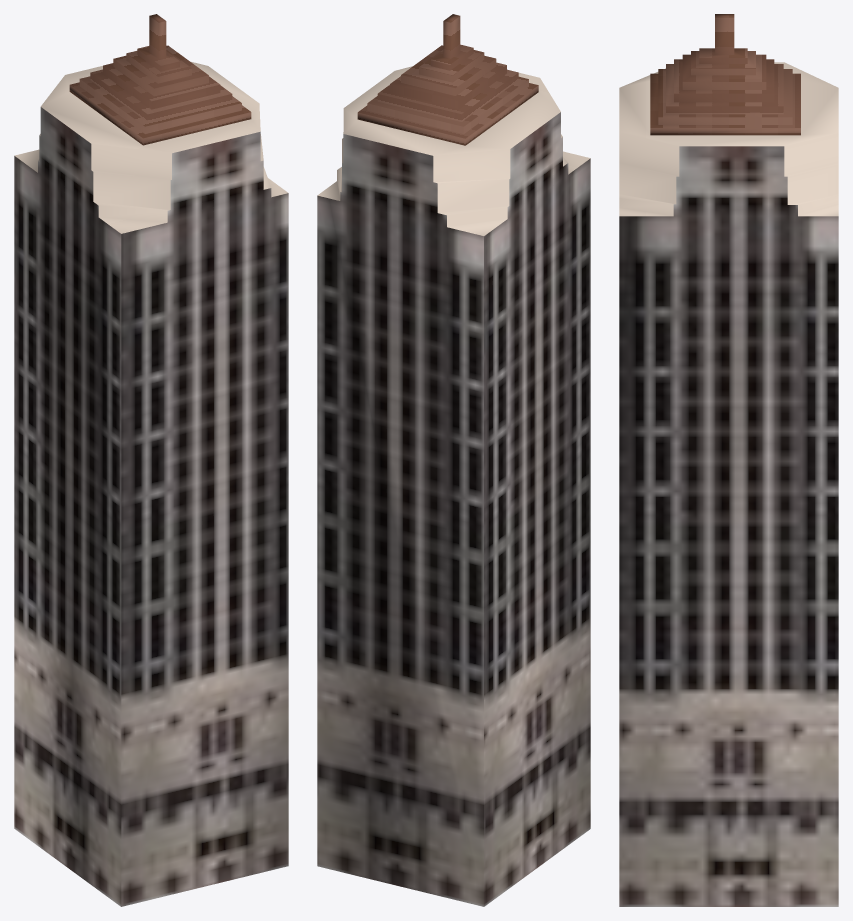
The model's file is Ritz_Carlton_Hotel.dae.
3 views of the same model, side by side, from view 1: azimuth 30°, elevation 25°; view 2: azimuth 150°, elevation 25°; view 3: azimuth 270°, elevation 25° (orthographic). The views are drawn at different scales.
Visible parts, largest first — view 1: _Beige_1, _Black_, _Brown_; view 2: _Beige_1, _Black_, _Brown_; view 3: _Beige_1, _Black_, _Brown_.
Part boxes in pixels (x1,y1,x2,y2): _Beige_1: (14, 107, 288, 906); _Black_: (14, 61, 287, 233); _Brown_: (69, 14, 251, 145); _Beige_1: (317, 112, 590, 906); _Black_: (317, 66, 590, 235); _Brown_: (357, 14, 538, 145); _Beige_1: (619, 146, 838, 906); _Black_: (619, 62, 838, 216); _Brown_: (650, 14, 800, 135).
Bounding box in the file's own units: 30.07 × 33.28 × 142.
3 materials, 3 textured.
